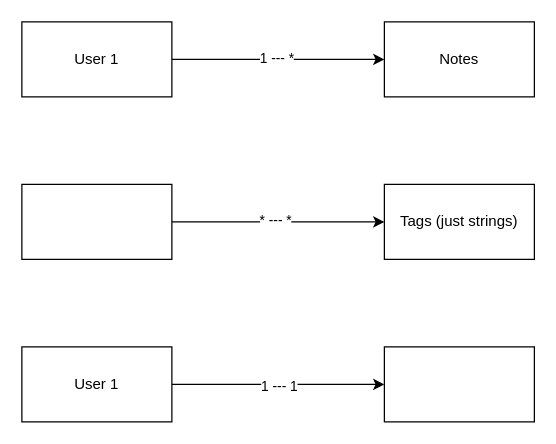
The diagram is 556 pixels wide and 444 high, and some of its shapes have lost their labels. Here are the shapes that lost their labels. From the top down, the centre of each, then its label:
At (x=96, y=221): "Note".
At (x=458, y=384): "1 Settings".
